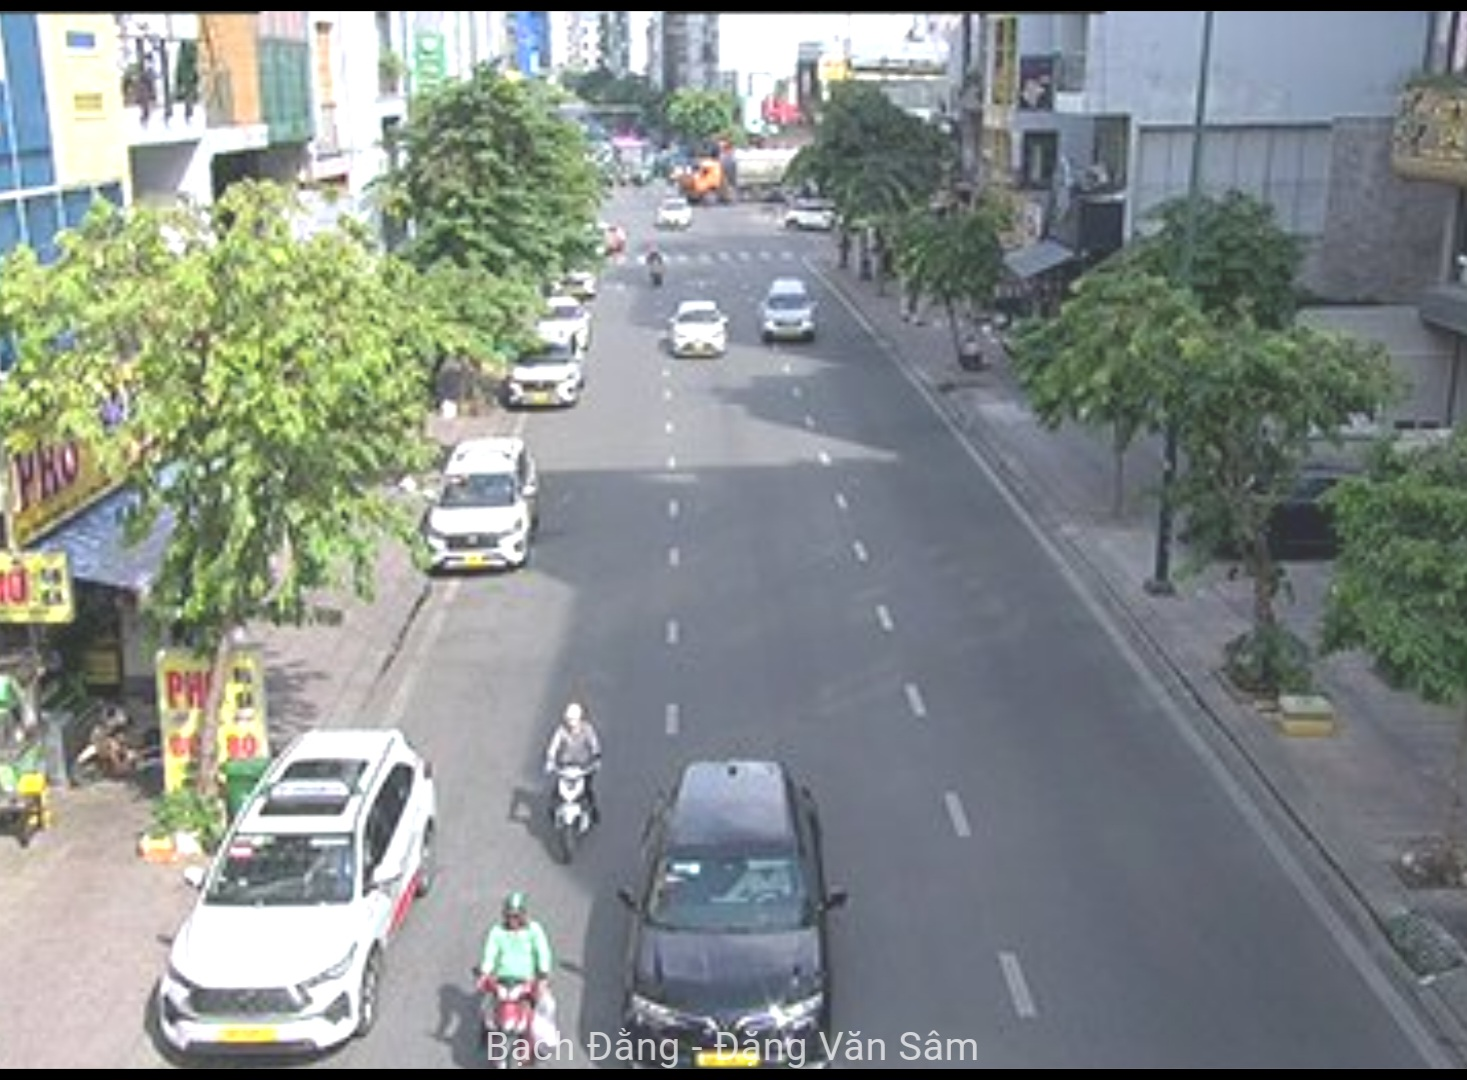car: (158, 738, 446, 1080), (624, 762, 842, 1075), (420, 436, 542, 574), (503, 341, 588, 412), (753, 280, 825, 347), (664, 302, 737, 358)
